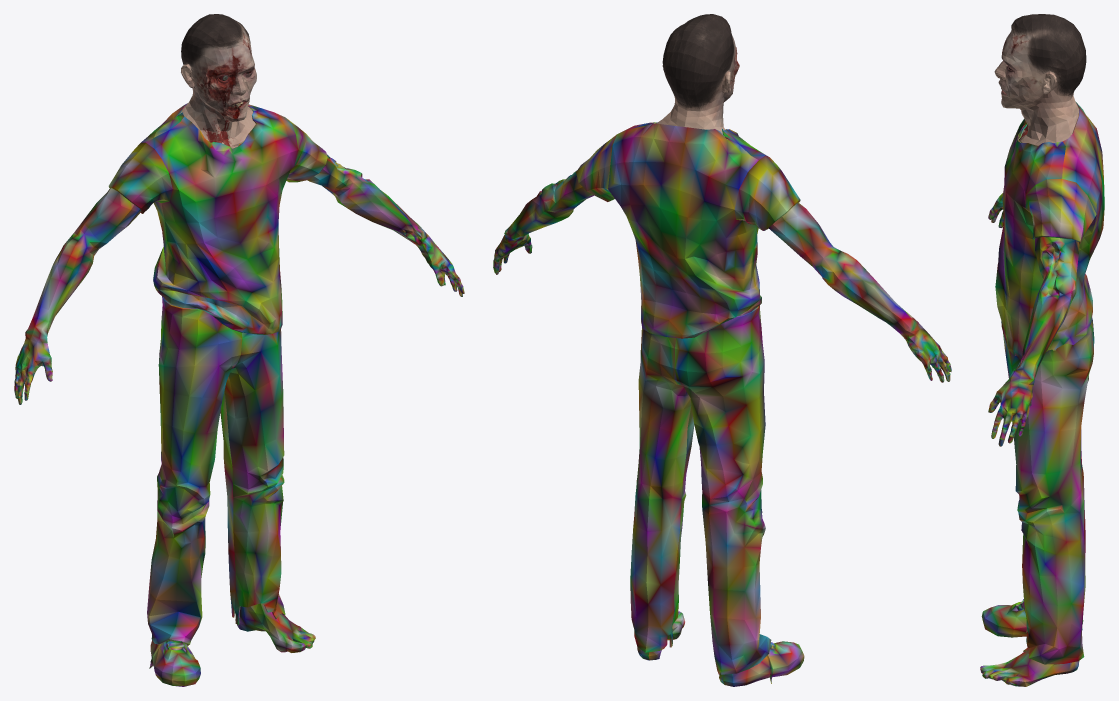
File: Zombie Male 1.fbx
The picture shows the model from 3 angles, left to right: view 1: azimuth 30°, elevation 25°; view 2: azimuth 150°, elevation 25°; view 3: azimuth 270°, elevation 25°; orthographic projection.
Visible parts, largest first — view 1: zombie_Zombie_male_body1_0, zombie_zombie_male_head1_0; view 2: zombie_Zombie_male_body1_0, zombie_zombie_male_head1_0; view 3: zombie_Zombie_male_body1_0, zombie_zombie_male_head1_0.
Part boxes in pixels (x1,y1,x2,y2): zombie_Zombie_male_body1_0: (14, 103, 464, 686); zombie_zombie_male_head1_0: (179, 14, 256, 148); zombie_Zombie_male_body1_0: (493, 122, 951, 686); zombie_zombie_male_head1_0: (656, 14, 739, 139); zombie_Zombie_male_body1_0: (980, 101, 1104, 686); zombie_zombie_male_head1_0: (994, 14, 1086, 145).
Bounding box in the file's own units: 135 × 184 × 32.31.
